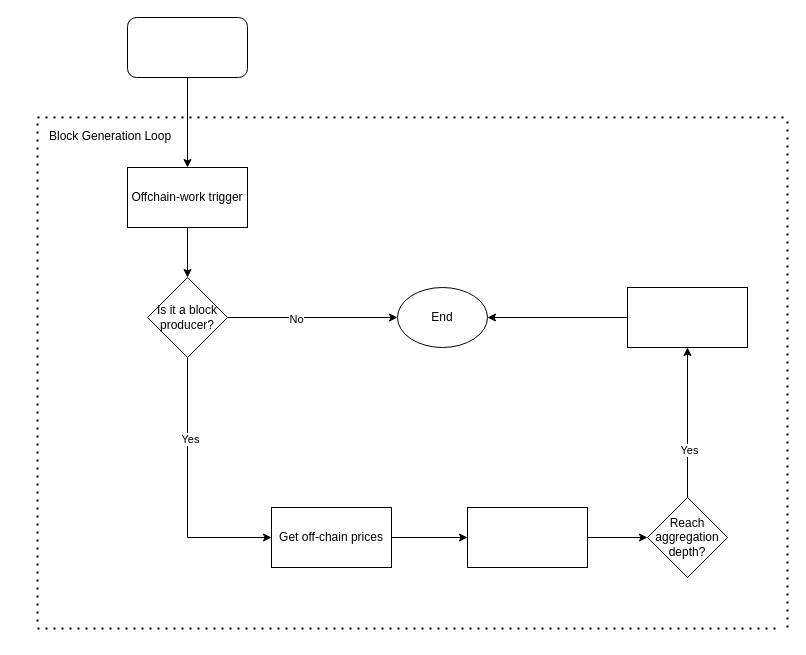
Image size: 806x655. Some labels were removed from this diagram. The shapes that lost their labels are listed below. From the top down, each one's centre as x and y in pixels, then its label:
(187,47): Start ares-node
(687,317): Aggregate average price
(527,537): Submit price to the chain
